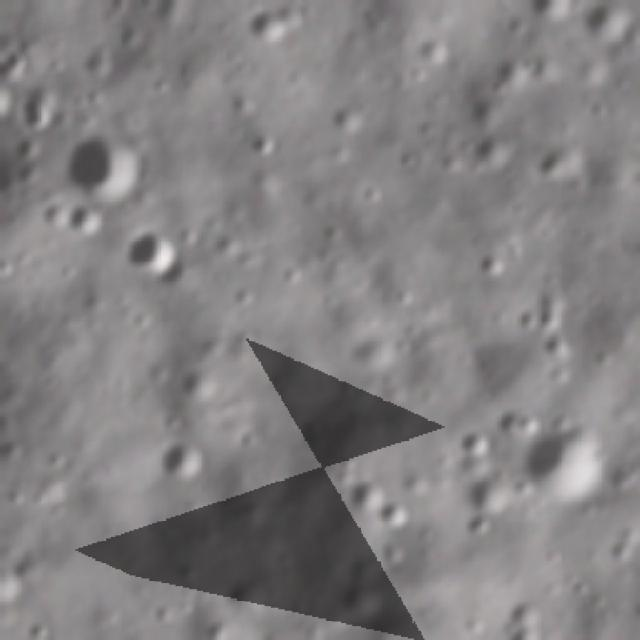crater: (514, 408, 620, 507), (53, 122, 153, 207), (114, 219, 186, 278), (234, 0, 315, 51), (145, 430, 213, 488), (462, 466, 522, 525), (484, 382, 538, 447), (11, 75, 71, 132), (459, 129, 516, 186), (532, 132, 586, 188), (340, 471, 394, 522), (171, 358, 229, 405), (28, 193, 75, 245), (575, 0, 628, 46), (472, 233, 514, 290), (62, 196, 109, 241), (516, 0, 593, 26), (376, 491, 422, 534), (521, 45, 562, 93), (323, 102, 371, 143), (248, 122, 286, 163), (413, 35, 456, 70), (502, 594, 546, 628), (0, 553, 26, 609), (456, 508, 493, 544), (0, 71, 9, 124)
